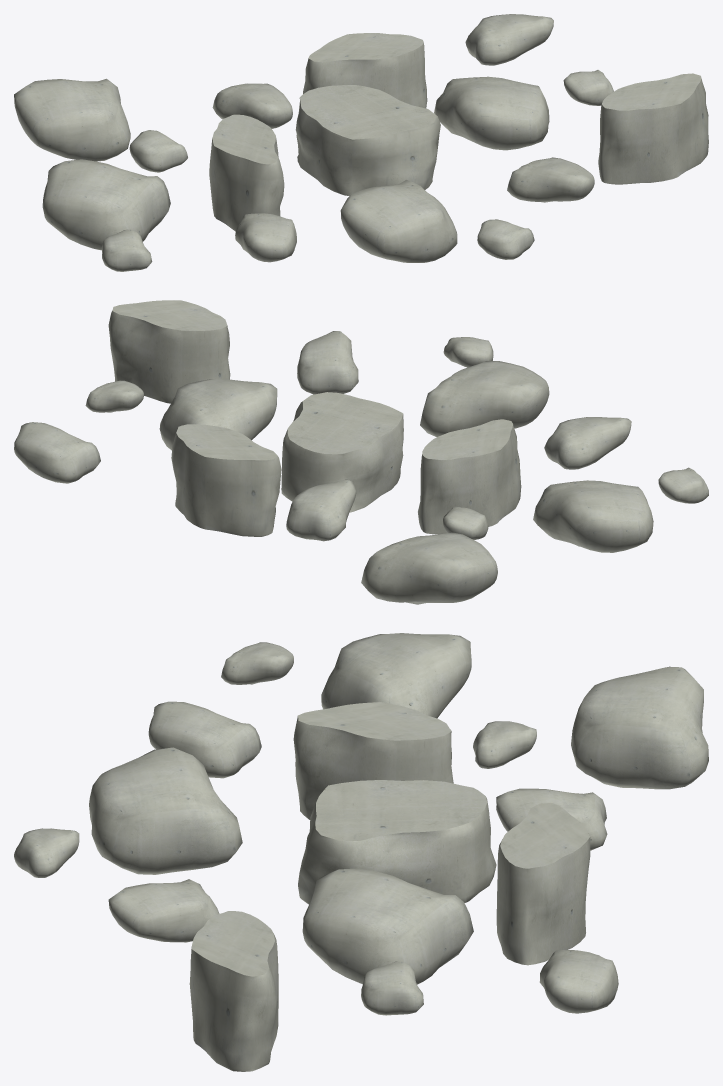
The model's file is rubble.glb.
3 views of the same model, one above another, from view 1: azimuth 30°, elevation 25°; view 2: azimuth 150°, elevation 25°; view 3: azimuth 270°, elevation 25° (orthographic). The views are drawn at different scales.
Parts seen in each view (by area): view 1: Box001, Box004.003, Box004, Box004.002, Box004.001, Box002.002, Box002.001, Box002; view 2: Box004, Box004.003, Box004.002, Box001, Box004.001, Box002, Box002.002, Box002.001; view 3: Box004.002, Box004.001, Box004, Box001, Box004.003, Box002, Box002.002, Box002.001.
Boxes of the visible parts, left/top/right/bottom form: Box001: left=295, top=85, right=440, bottom=195; Box004.003: left=42, top=159, right=296, bottom=271; Box004: left=14, top=78, right=292, bottom=172; Box004.002: left=340, top=157, right=594, bottom=262; Box004.001: left=434, top=14, right=613, bottom=150; Box002.002: left=598, top=73, right=708, bottom=184; Box002.001: left=209, top=114, right=284, bottom=231; Box002: left=303, top=33, right=427, bottom=108; Box004: left=286, top=479, right=497, bottom=604; Box004.003: left=533, top=417, right=708, bottom=552; Box004.002: left=297, top=331, right=549, bottom=436; Box001: left=281, top=392, right=403, bottom=512; Box004.001: left=14, top=379, right=277, bottom=483; Box002: left=171, top=424, right=281, bottom=536; Box002.002: left=108, top=300, right=230, bottom=403; Box002.001: left=418, top=419, right=521, bottom=534; Box004.002: left=14, top=747, right=242, bottom=942; Box004.001: left=302, top=868, right=618, bottom=1015; Box004: left=473, top=666, right=708, bottom=850; Box001: left=298, top=780, right=496, bottom=904; Box004.003: left=148, top=633, right=471, bottom=778; Box002: left=496, top=803, right=590, bottom=965; Box002.002: left=189, top=911, right=278, bottom=1071; Box002.001: left=293, top=702, right=453, bottom=819.
Size of the model in its own units: 2.11 by 0.2491 by 1.65.
Materials: 1 (1 with a texture image).
